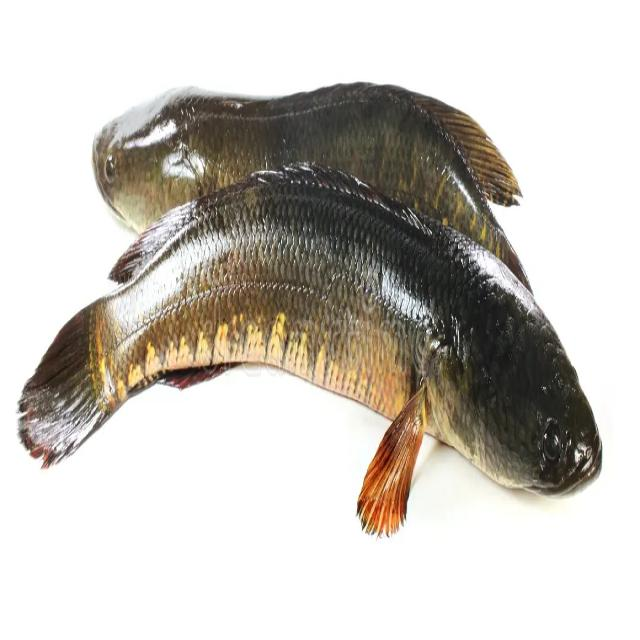Murrel or Snake Head: (15, 161, 602, 532), (92, 86, 533, 293)
